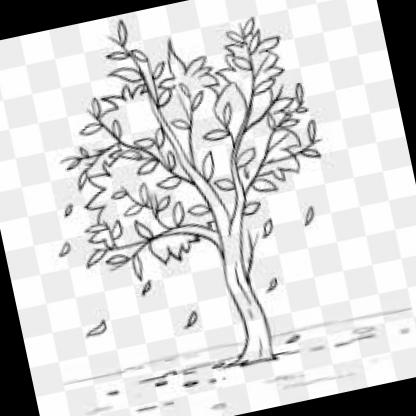root_none: (190, 316, 332, 410)
trunk_reflex: (215, 252, 276, 344)
